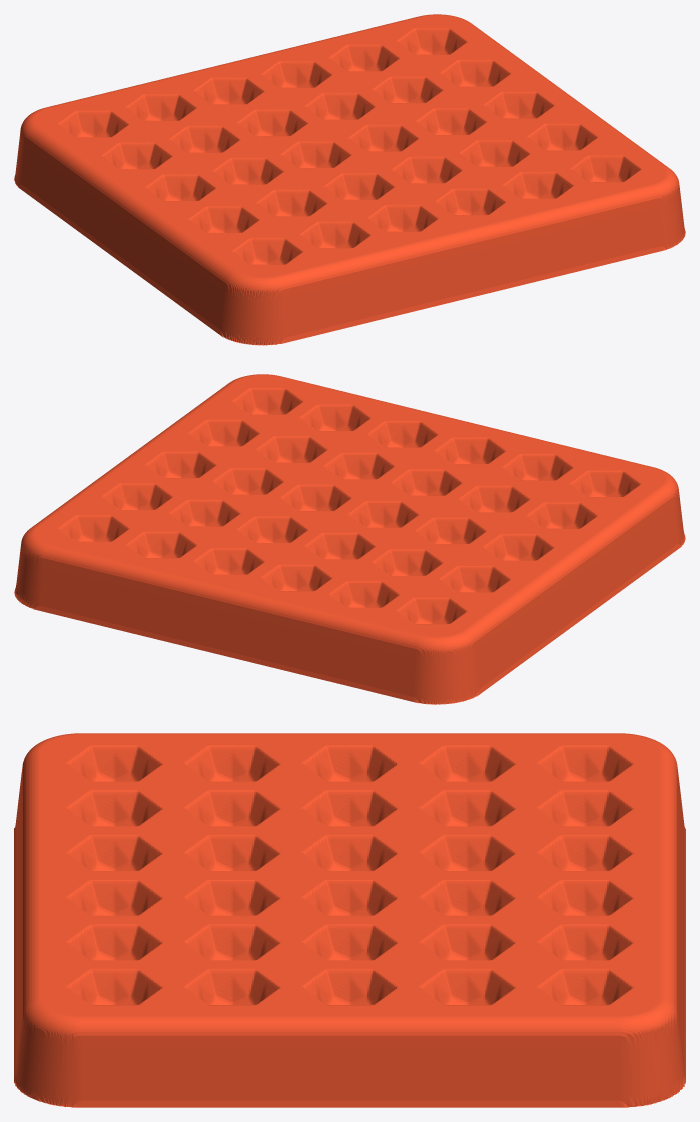
The model's file is mold.glb.
3 views of the same model, one above another, from view 1: azimuth 30°, elevation 25°; view 2: azimuth 150°, elevation 25°; view 3: azimuth 270°, elevation 25° (orthographic). The views are drawn at different scales.
Parts seen in each view (by area): view 1: geometry_0; view 2: geometry_0; view 3: geometry_0.
Part boxes in pixels (bbox=[...]): geometry_0: bbox=[14, 14, 685, 345]; geometry_0: bbox=[14, 374, 685, 704]; geometry_0: bbox=[14, 733, 685, 1107].
Bounding box in the file's own units: 0.0964 × 0.0119 × 0.0902.
